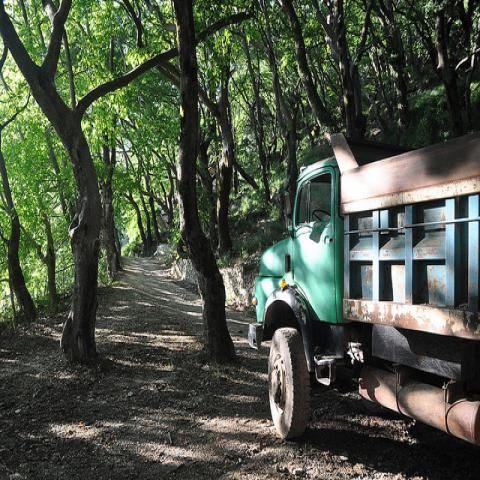truck: (244, 128, 480, 458)
